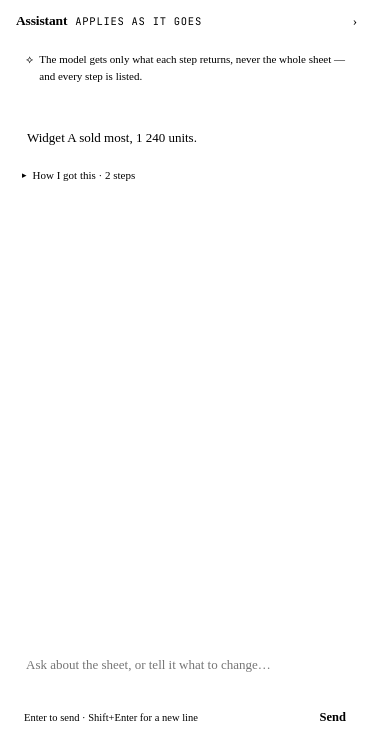
Test: ChatPanel › shows the steps in plain language when the chain is opened
Step 1. Click the button "▸ How I got this · 2 steps" → (80, 175), box [16,166,143,184]
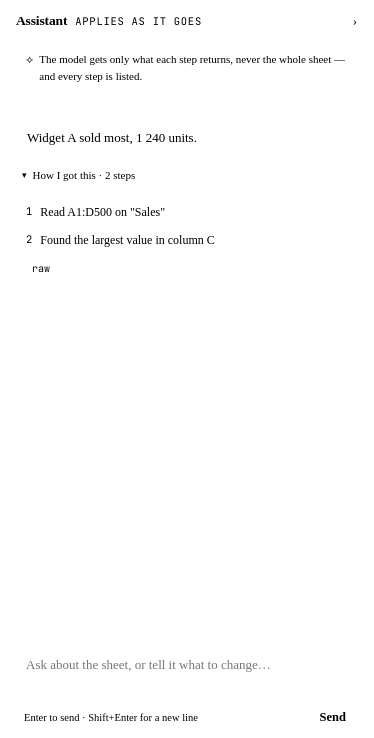
Expected: the text "Read A1:D500 on \"Sales\"" is shown, [40,205,165,219]
Expected: the text "Found the largest value in column C" is shown, [40,233,215,247]
